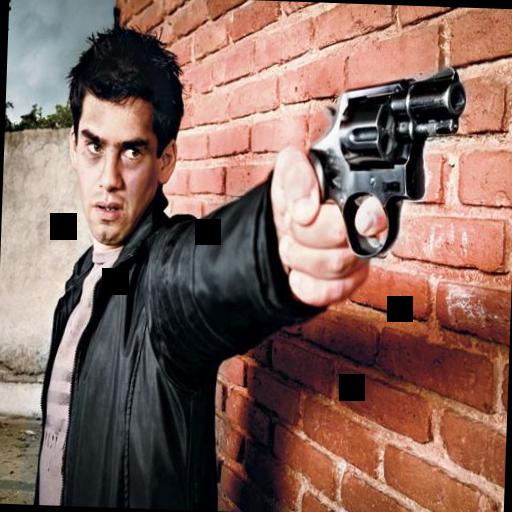Handgun: (297, 54, 466, 262)
